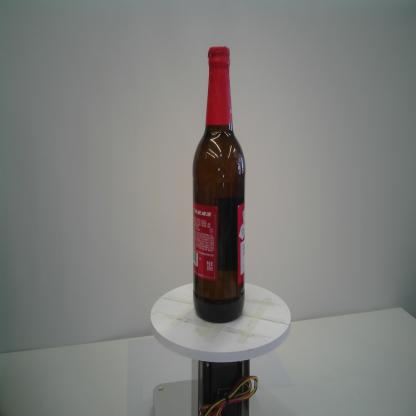Alcohol: (191, 41, 246, 326)
